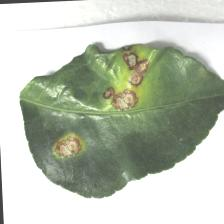canker: (30, 46, 150, 171)
